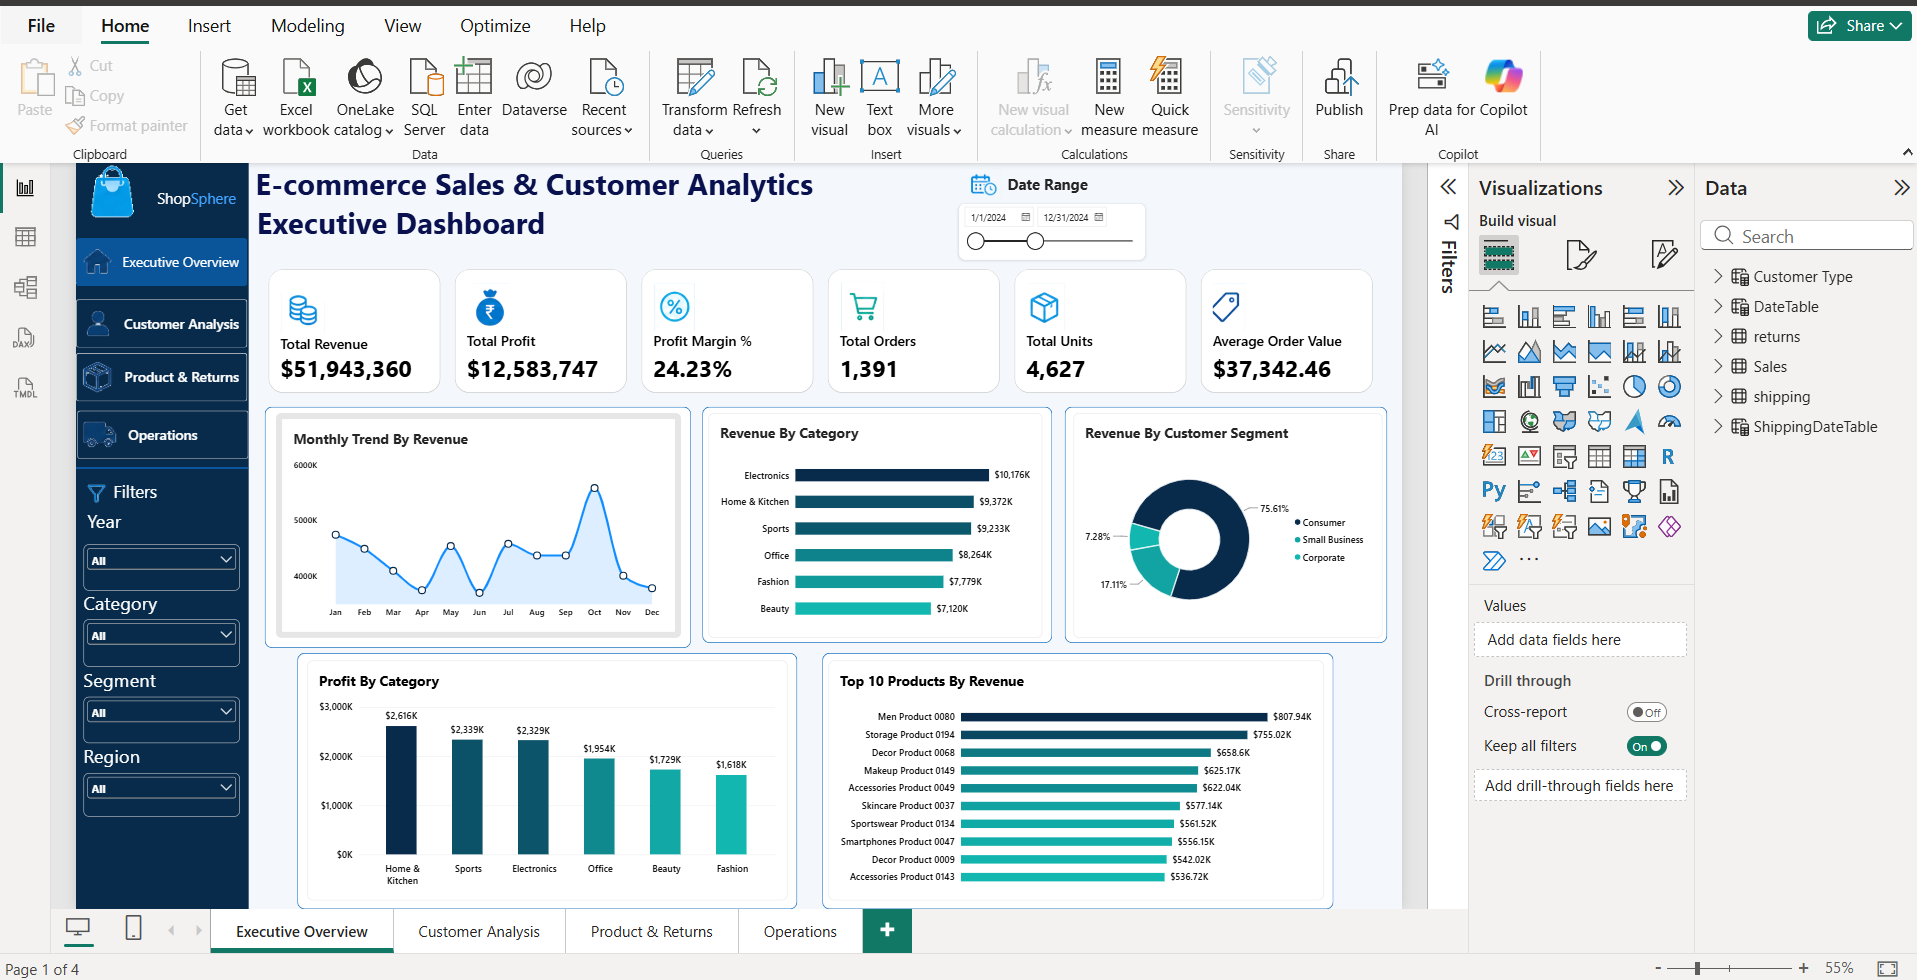

Layout of this report page (visuals, bound fields, positions):
{"tool":"powerbi","page":{"name":"Executive Overview","canvas":[1920,1080],"ordinal":0},"visuals":[{"type":"shape","box":[0,0,250,1080],"z":0},{"type":"cardVisual","fields":{"Data":["Sales.Total Revenue","Sales.Total Profit","Sales.Profit Margin %","Sales.Total Orders","Sales.Total Units","Sales.Average Order Value"]},"box":[267.8,143,1623.3,200],"z":1000},{"type":"textbox","box":[249.7,0,1634.1,153.8],"z":2000},{"type":"shape","box":[273.3,352.9,617.1,349.3],"z":3000},{"type":"shape","box":[906.6,352.9,506.7,342],"z":4000},{"type":"slicer","fields":{"Values":["DateTable.Year"]},"box":[10.9,551.9,226.2,67],"z":5000},{"type":"slicer","fields":{"Values":["Sales.category"]},"box":[10.9,660.5,226.2,68.8],"z":6000},{"type":"slicer","fields":{"Values":["Sales.segment"]},"box":[10.9,772.7,226.2,67],"z":7000},{"type":"slicer","fields":{"Values":["Sales.region"]},"box":[10.9,883.1,226.2,63.3],"z":8000},{"type":"lineChart","title":"Monthly Trend By Revenue","fields":{"Category":["DateTable.Month"],"Y":["Sales.Total Revenue"]},"box":[289.5,361.9,586.3,325.7],"z":9000},{"type":"clusteredBarChart","title":"Revenue By Category","fields":{"Category":["Sales.category"],"Y":["Sales.Total Revenue"]},"box":[915.7,361.9,483.2,325.7],"z":10000},{"type":"shape","box":[1431.4,352.9,466.9,342],"z":11000},{"type":"donutChart","title":"Revenue By Customer Segment","fields":{"Y":["Sales.Total Revenue"],"Category":["Sales.segment"]},"box":[1444.1,361.9,447,325.7],"z":12000},{"type":"shape","box":[320.3,709.4,723.9,371],"z":13000},{"type":"shape","box":[1080.4,709.4,740.2,371],"z":14000},{"type":"columnChart","title":"Profit By Category","fields":{"Y":["Sales.Total Profit"],"Category":["Sales.category"]},"box":[334.8,720.2,694.9,347.5],"z":15000},{"type":"clusteredBarChart","title":"Top 10 Products By Revenue","fields":{"Category":["Sales.product_name"],"Y":["Sales.Total Revenue"]},"box":[1089.4,720.2,716.6,347.5],"z":16000},{"type":"shape","box":[0,428.9,249.7,25.3],"z":17000},{"type":"image","box":[0,457.8,59.7,41.6],"z":18000},{"type":"textbox","box":[1.8,441.6,247.9,57.9],"z":19000},{"type":"textbox","box":[16.3,499.5,85.1,45.2],"z":20000},{"type":"textbox","box":[10.9,618.9,132.1,43.4],"z":21000},{"type":"textbox","box":[10.9,729.3,114,43.4],"z":22000},{"type":"textbox","box":[10.9,839.7,114,43.4],"z":23000},{"type":"image","box":[1277.6,0,65.1,57.9],"z":24000},{"type":"image","box":[0,0,106.4,89.7],"z":25000},{"type":"textbox","box":[100.2,0,150.3,89.7],"z":26000},{"type":"slicer","fields":{"Values":["DateTable.Date"]},"box":[1277.6,57.9,271.4,83.2],"z":27000},{"type":"textbox","box":[1342.8,16.3,206.3,41.6],"z":28000},{"type":"pageNavigator","box":[0,275.5,248.3,70],"z":29000},{"type":"pageNavigator","box":[1.8,358.3,248.3,70],"z":30000},{"type":"pageNavigator","box":[0,197.3,248.3,70],"z":31000},{"type":"image","box":[1.8,197.3,59.7,70.6],"z":32000},{"type":"image","box":[0,275.1,61.5,68.8],"z":33000},{"type":"image","box":[0,358.3,61.5,70.6],"z":34000},{"type":"pageNavigator","box":[0,108.6,248,70],"z":35000},{"type":"image","box":[0,108.6,59.7,70.6],"z":36000}]}

Visuals, with their boxes on the page's 1920x1080 design canvas (x1, y1, x2, y2). These are canvas units, not pixel positions in the 1917x980 screenshot, which may show the page scaled, cropped or inside an application window:
shape: [left=0, top=0, right=250, bottom=1080]
cardVisual - Sales.Total Revenue x Sales.Total Profit: [left=268, top=143, right=1891, bottom=343]
textbox: [left=250, top=0, right=1884, bottom=154]
shape: [left=273, top=353, right=890, bottom=702]
shape: [left=907, top=353, right=1413, bottom=695]
slicer - DateTable.Year: [left=11, top=552, right=237, bottom=619]
slicer - Sales.category: [left=11, top=660, right=237, bottom=729]
slicer - Sales.segment: [left=11, top=773, right=237, bottom=840]
slicer - Sales.region: [left=11, top=883, right=237, bottom=946]
"Monthly Trend By Revenue" lineChart: [left=290, top=362, right=876, bottom=688]
"Revenue By Category" clusteredBarChart: [left=916, top=362, right=1399, bottom=688]
shape: [left=1431, top=353, right=1898, bottom=695]
"Revenue By Customer Segment" donutChart: [left=1444, top=362, right=1891, bottom=688]
shape: [left=320, top=709, right=1044, bottom=1080]
shape: [left=1080, top=709, right=1821, bottom=1080]
"Profit By Category" columnChart: [left=335, top=720, right=1030, bottom=1068]
"Top 10 Products By Revenue" clusteredBarChart: [left=1089, top=720, right=1806, bottom=1068]
shape: [left=0, top=429, right=250, bottom=454]
image: [left=0, top=458, right=60, bottom=499]
textbox: [left=2, top=442, right=250, bottom=500]
textbox: [left=16, top=500, right=101, bottom=545]
textbox: [left=11, top=619, right=143, bottom=662]
textbox: [left=11, top=729, right=125, bottom=773]
textbox: [left=11, top=840, right=125, bottom=883]
image: [left=1278, top=0, right=1343, bottom=58]
image: [left=0, top=0, right=106, bottom=90]
textbox: [left=100, top=0, right=250, bottom=90]
slicer - DateTable.Date: [left=1278, top=58, right=1549, bottom=141]
textbox: [left=1343, top=16, right=1549, bottom=58]
pageNavigator: [left=0, top=276, right=248, bottom=346]
pageNavigator: [left=2, top=358, right=250, bottom=428]
pageNavigator: [left=0, top=197, right=248, bottom=267]
image: [left=2, top=197, right=62, bottom=268]
image: [left=0, top=275, right=62, bottom=344]
image: [left=0, top=358, right=62, bottom=429]
pageNavigator: [left=0, top=109, right=248, bottom=179]
image: [left=0, top=109, right=60, bottom=179]
